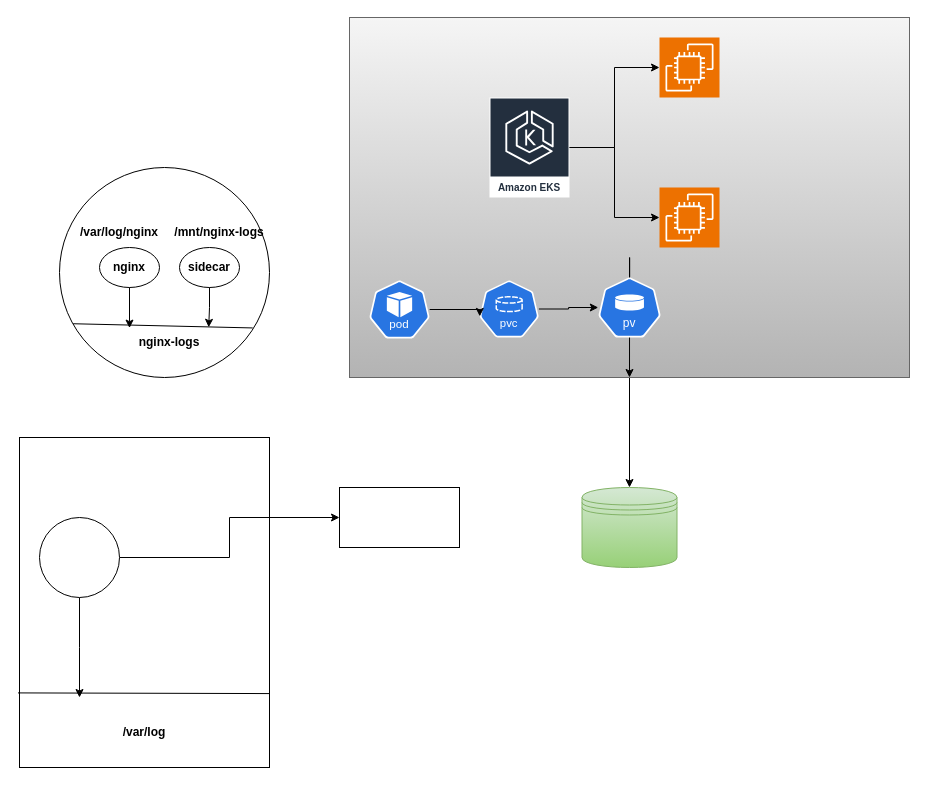
The diagram is 927 pixels wide and 785 high, and some of its shapes have lost their labels. Each missing label, with the centre of its shape:
5GB: (629,527)
ELK: (399,517)
